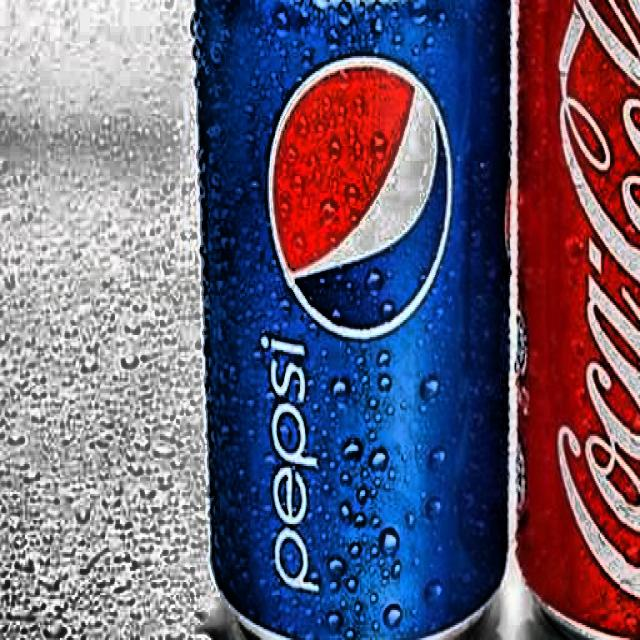metal: (186, 0, 520, 640), (510, 0, 640, 640)
